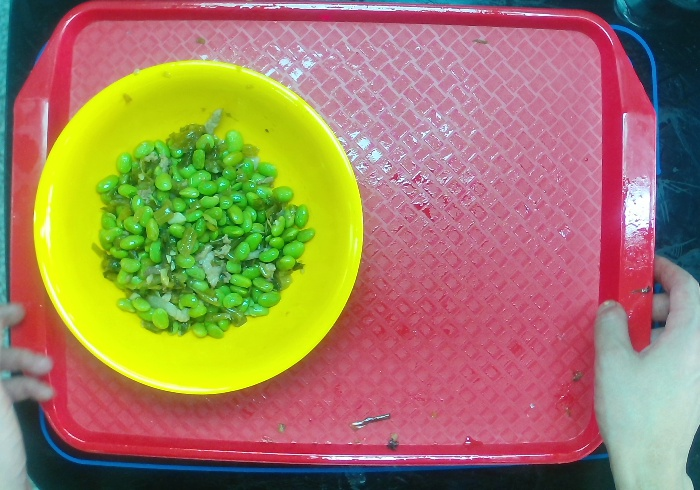YKMZ-Huang_Se_Tang_Wan: (19, 49, 374, 401)
